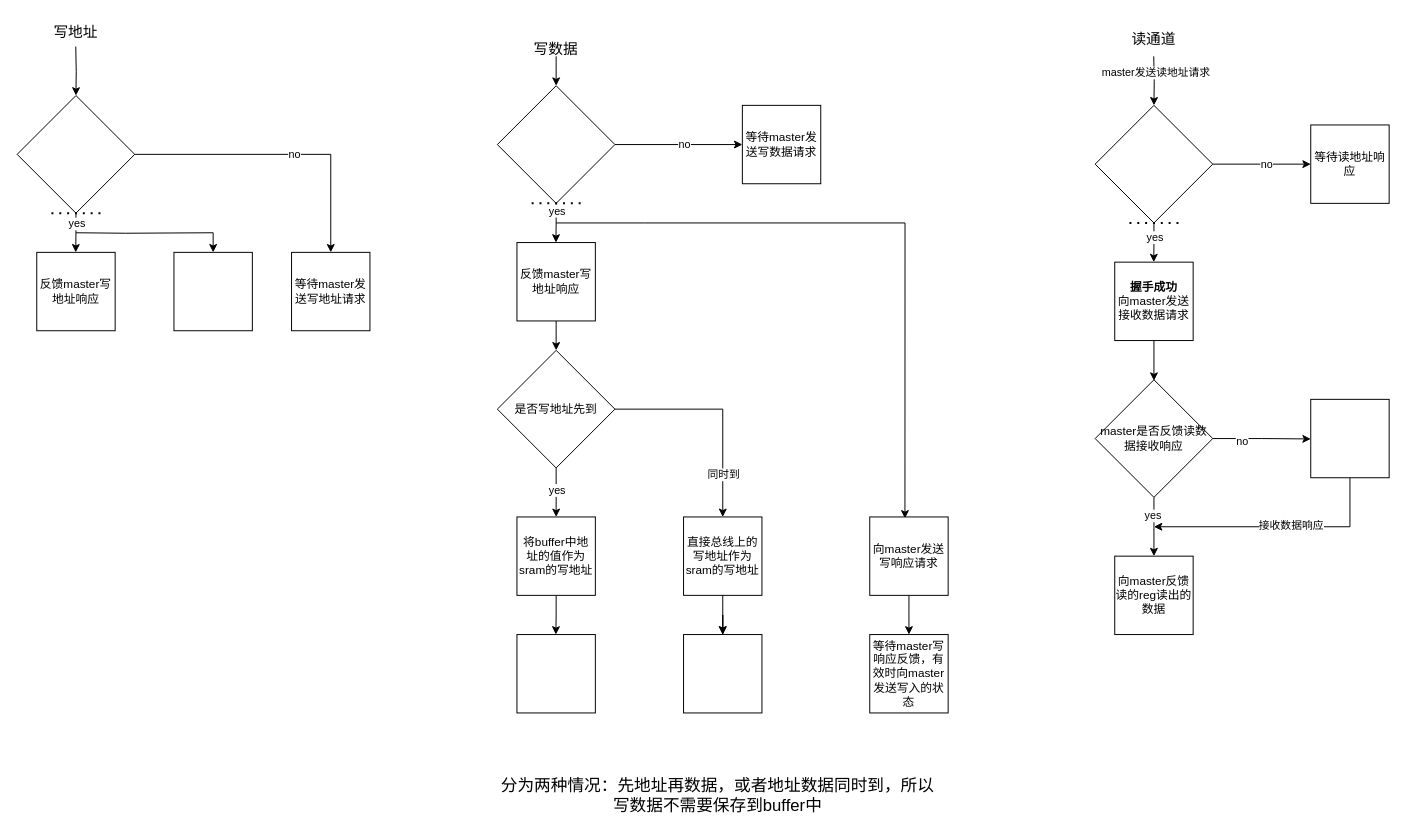
This 1406x833 diagram has some shape labels left out. The shapes that lost their labels are listed below. From the top down, each one's centre as x and y in pixels, then its label:
point 75,154: master是否发送 写地址请求
point 555,144: master是否发送 写数据请求
point 1153,163: 是否读地址响应
point 212,291: 将写地址写进buffer中
point 1349,438: 等待master反馈读数据接收响应
point 555,673: 用总线上的数据向buffer中的写地址写入sram
point 722,673: 用总线上的数据向总线上的写地址写入sram
